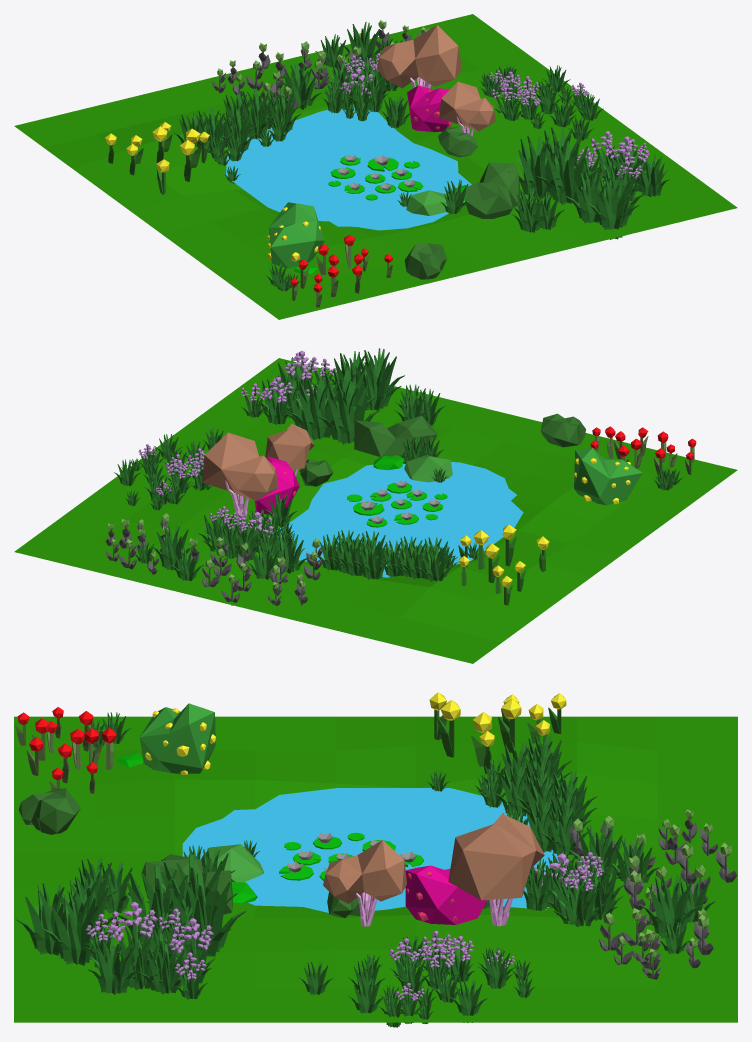
The model's file is MEADOW_FIELD07.fbx.
3 renders of one model, top to bottom at view 1: azimuth 30°, elevation 25°; view 2: azimuth 150°, elevation 25°; view 3: azimuth 270°, elevation 25°, orthographic. The views are drawn at different scales.
Visible parts, largest first — view 1: Plane.196; view 2: Plane.196; view 3: Plane.196.
Part boxes in pixels (x1,y1,x2,y2): Plane.196: (14,14,737,319); Plane.196: (14,348,737,663); Plane.196: (14,692,737,1027).
Bounding box in the file's own units: 1000 × 233 × 1000.
